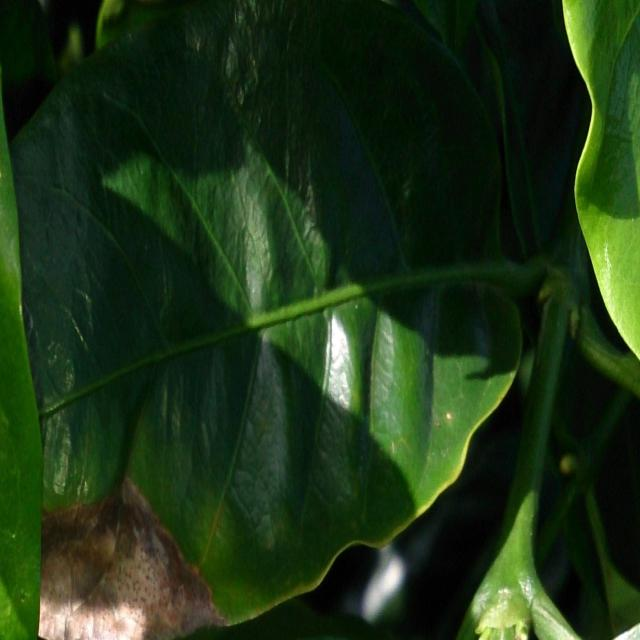Enfermedad-Mancha-de-hierro: (9, 0, 524, 640)
